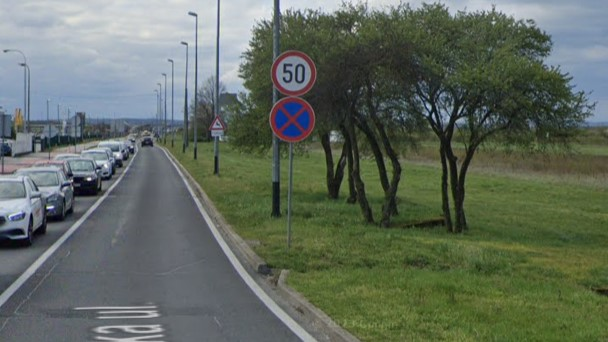Divljač na cesti: (208, 115, 226, 130)
Ograničenje brzine 50: (271, 50, 316, 97)
